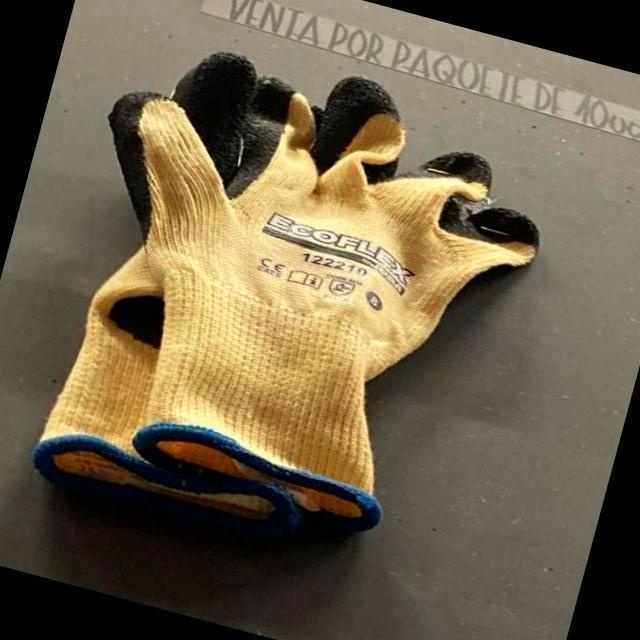Guantes: (31, 50, 539, 541)
